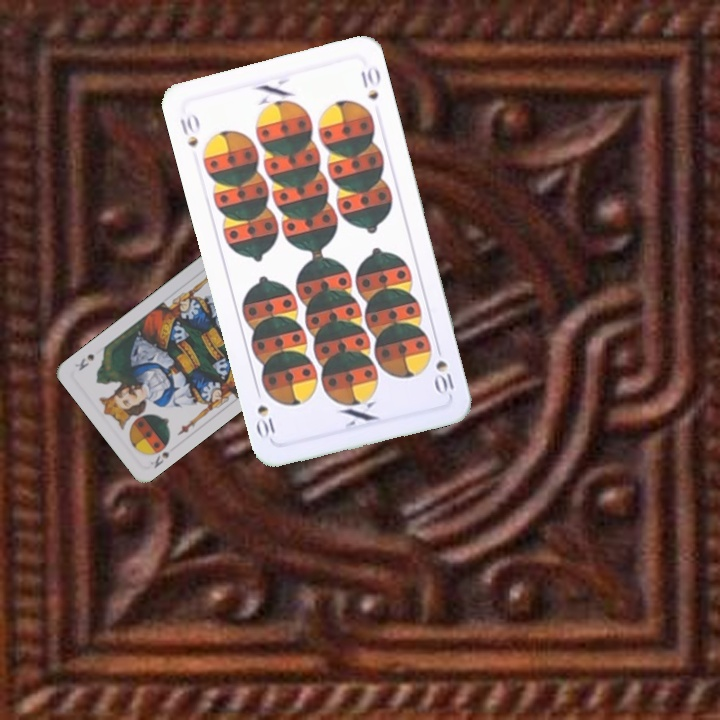S10: (431, 340, 459, 398), (176, 109, 203, 149)
SK: (146, 437, 172, 471)
